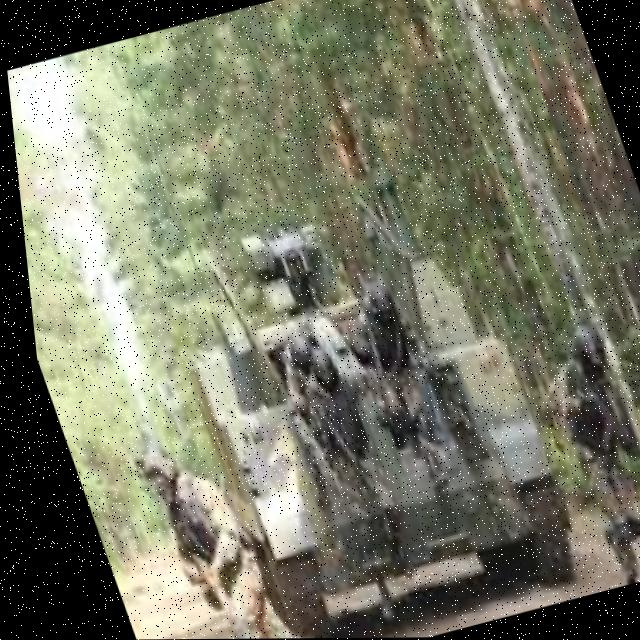MIL_APC: (120, 211, 627, 639)
